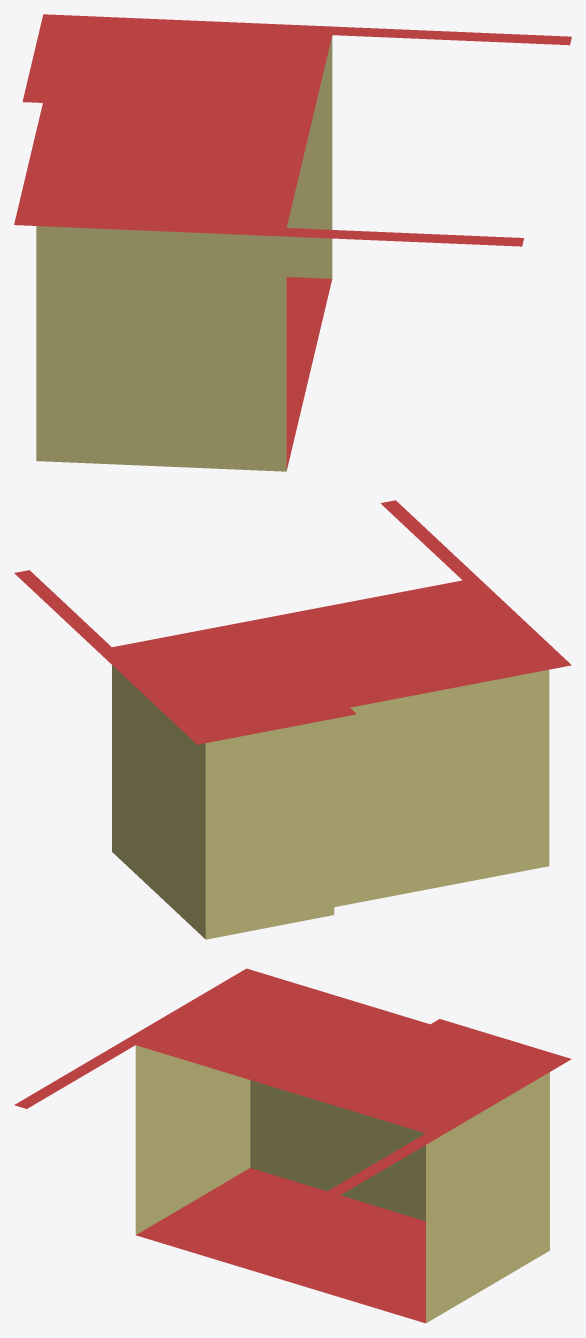
3 renders of one model, top to bottom at view 1: azimuth 30°, elevation 25°; view 2: azimuth 150°, elevation 25°; view 3: azimuth 270°, elevation 25°, orthographic. The views are drawn at different scales.
Size of the model in its own units: 17.38 by 17.61 by 6.62.
